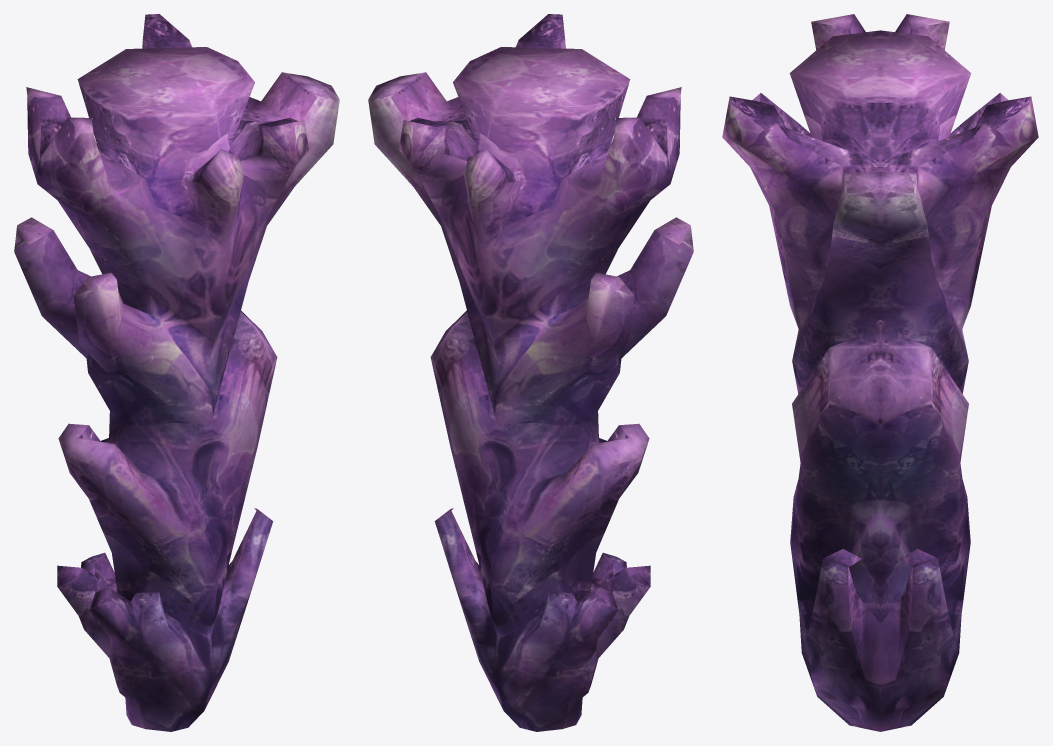
File: ts_yxobj009.FBX
The picture shows the model from 3 angles, left to right: view 1: azimuth 30°, elevation 25°; view 2: azimuth 150°, elevation 25°; view 3: azimuth 270°, elevation 25°; orthographic projection. The views are drawn at different scales.
Parts seen in each view (by area): view 1: ts_yxobj009; view 2: ts_yxobj009; view 3: ts_yxobj009.
Boxes of the visible parts, left/top/right/bottom form: ts_yxobj009: left=14, top=14, right=339, bottom=731; ts_yxobj009: left=368, top=14, right=693, bottom=731; ts_yxobj009: left=722, top=14, right=1038, bottom=731.
Bounding box in the file's own units: 24.25 × 50.39 × 22.05.
